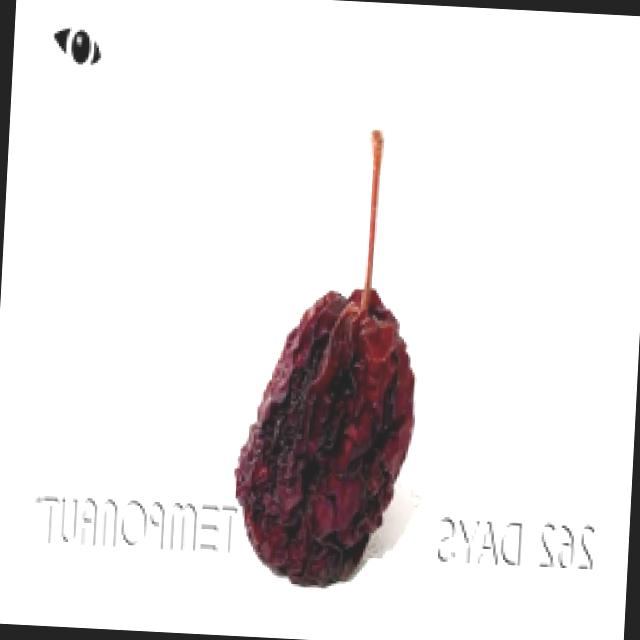Rotten_Apple: (182, 36, 466, 596)
